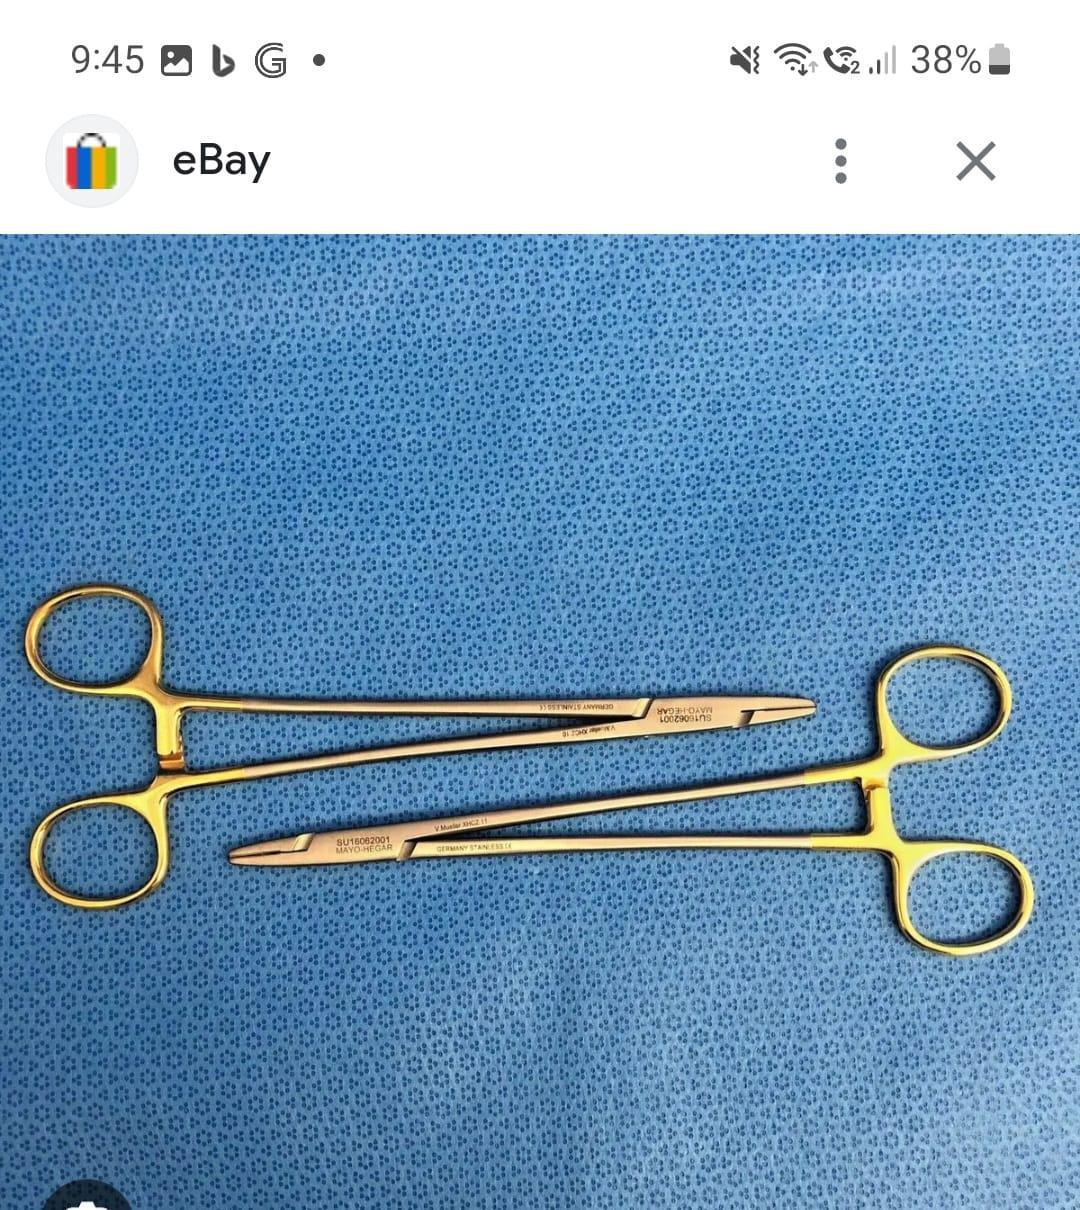Needle Holder: (220, 629, 1052, 963), (17, 568, 821, 910)
